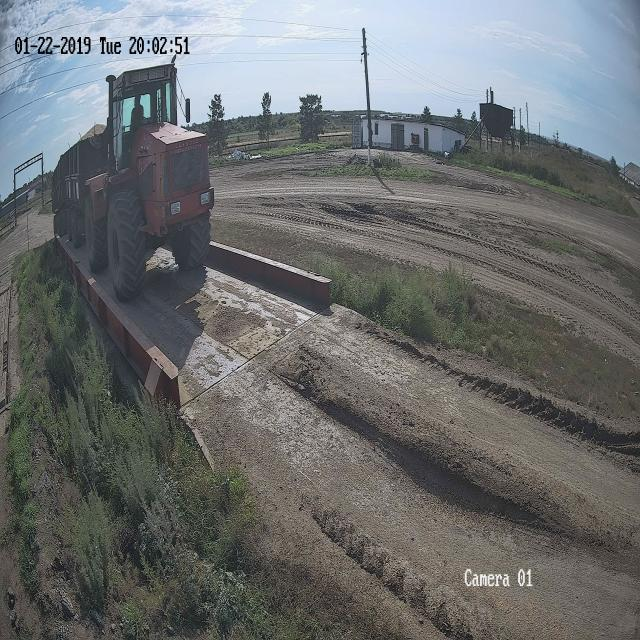trailer: (51, 125, 107, 246)
truck: (52, 62, 213, 299)
